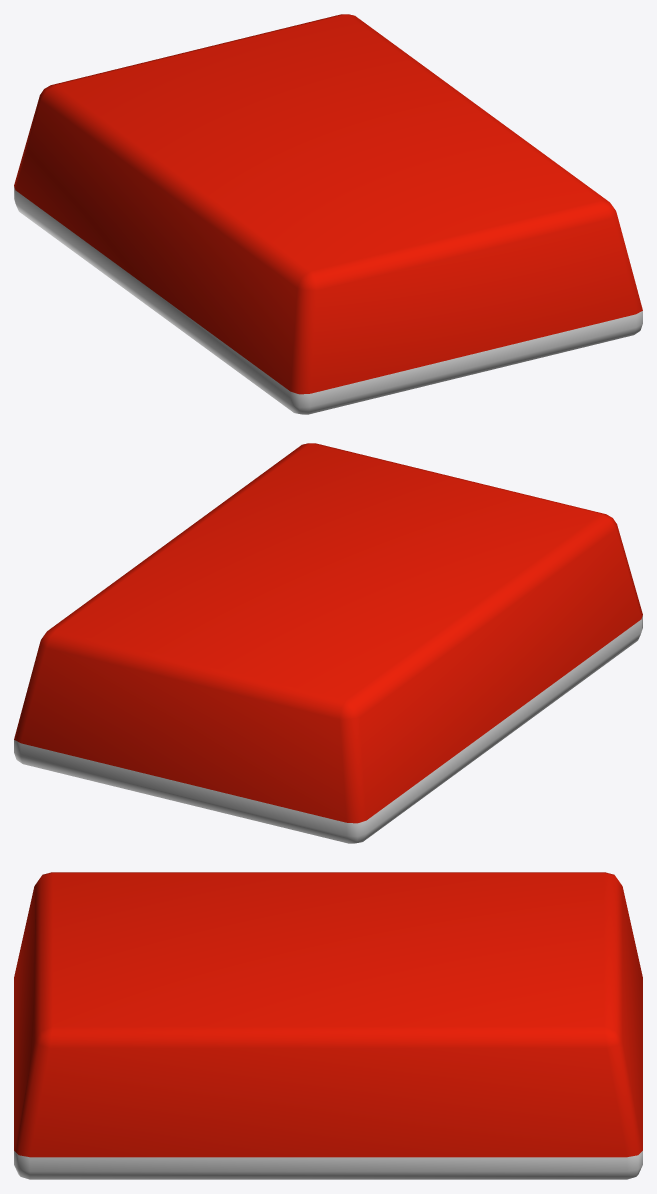
File: basementLamp.fbx
3 renders of one model, top to bottom at view 1: azimuth 30°, elevation 25°; view 2: azimuth 150°, elevation 25°; view 3: azimuth 270°, elevation 25°, orthographic. The views are drawn at different scales.
Visible parts, largest first — view 1: Cube; view 2: Cube; view 3: Cube.
Boxes of the visible parts, x1,y1,x2,y2 form: Cube: (14, 14, 642, 414); Cube: (14, 443, 642, 843); Cube: (14, 872, 642, 1179).
Size of the model in its own units: 280 by 100 by 400.
